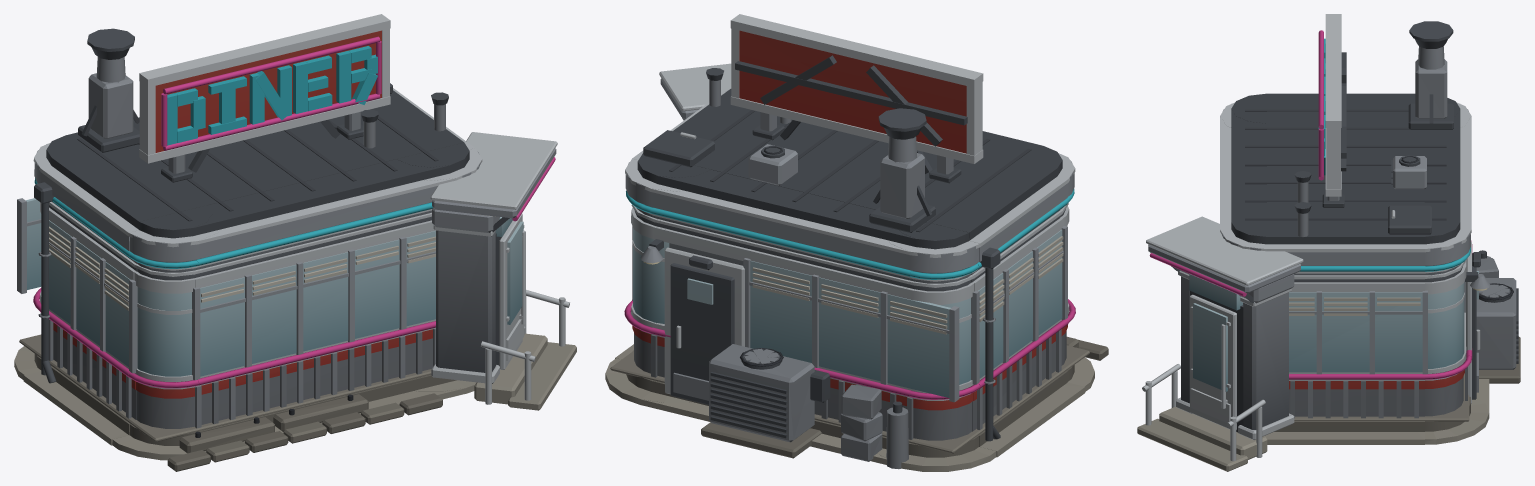
The model's file is diner_01.glb.
3 renders of one model, left to right at view 1: azimuth 30°, elevation 25°; view 2: azimuth 150°, elevation 25°; view 3: azimuth 270°, elevation 25°, orthographic. The views are drawn at different scales.
Visible parts, largest first — view 1: diner_01; view 2: diner_01; view 3: diner_01.
Part boxes in pixels (left/top/right/bottom): diner_01: left=14, top=14, right=576, bottom=471; diner_01: left=605, top=14, right=1108, bottom=471; diner_01: left=1137, top=14, right=1520, bottom=471.
Size of the model in its own units: 7.56 by 5.3 by 6.27.
